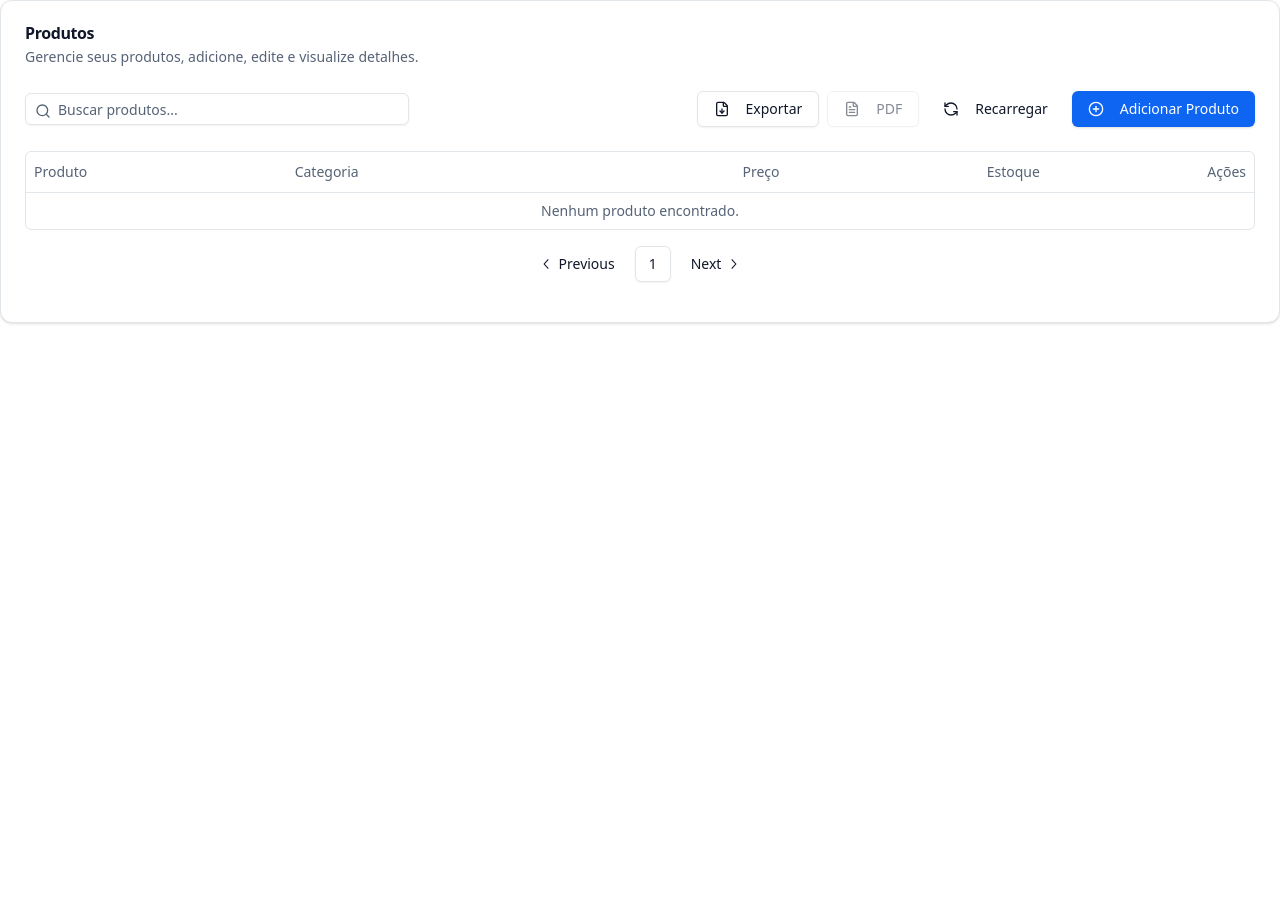
Test: Products page form › exibe mensagens de validação ao tentar salvar vazio
Click the button "Adicionar Produto" at [1163, 109], box [1072, 91, 1255, 127]
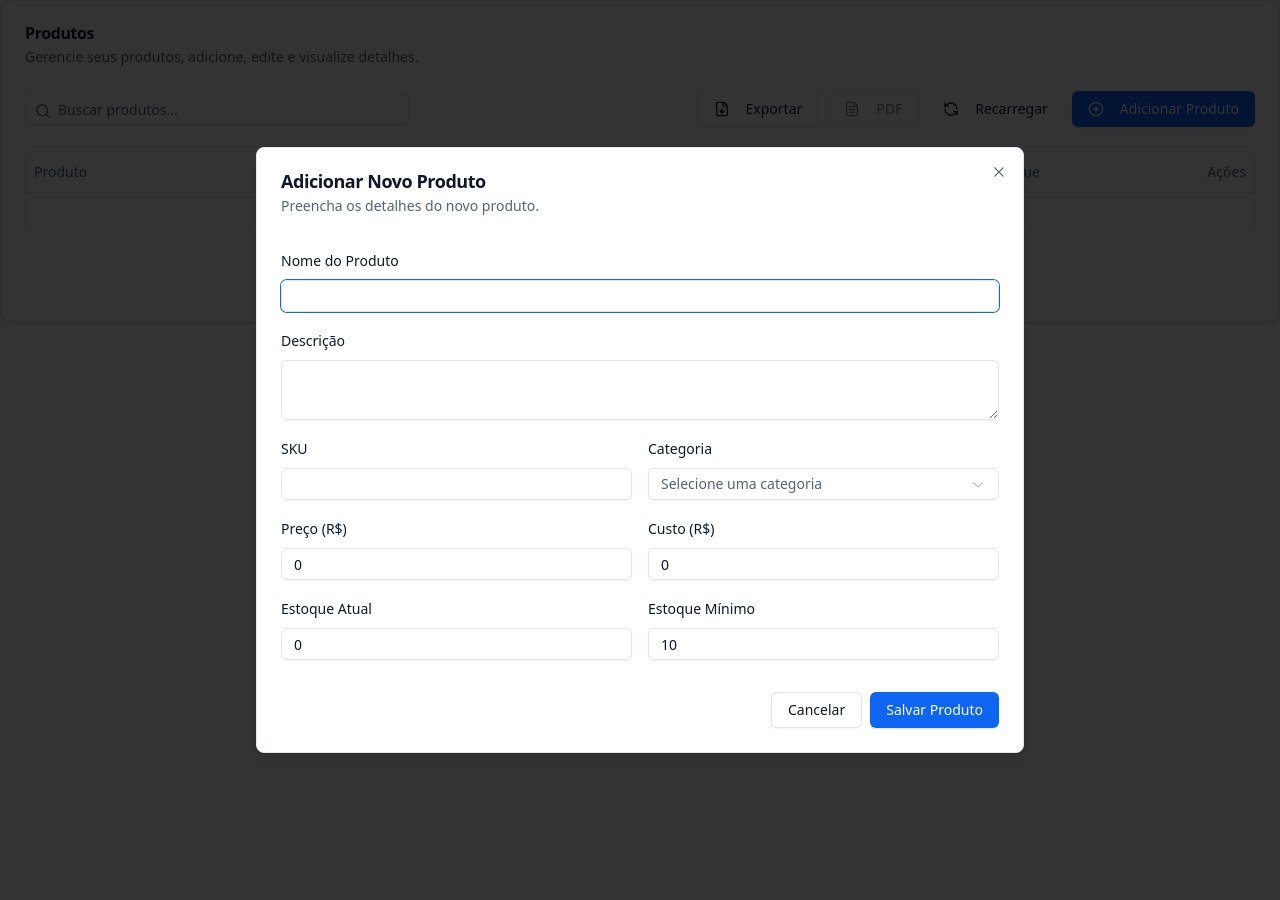
Click the button "Salvar Produto" at [935, 710], box [870, 692, 999, 728]
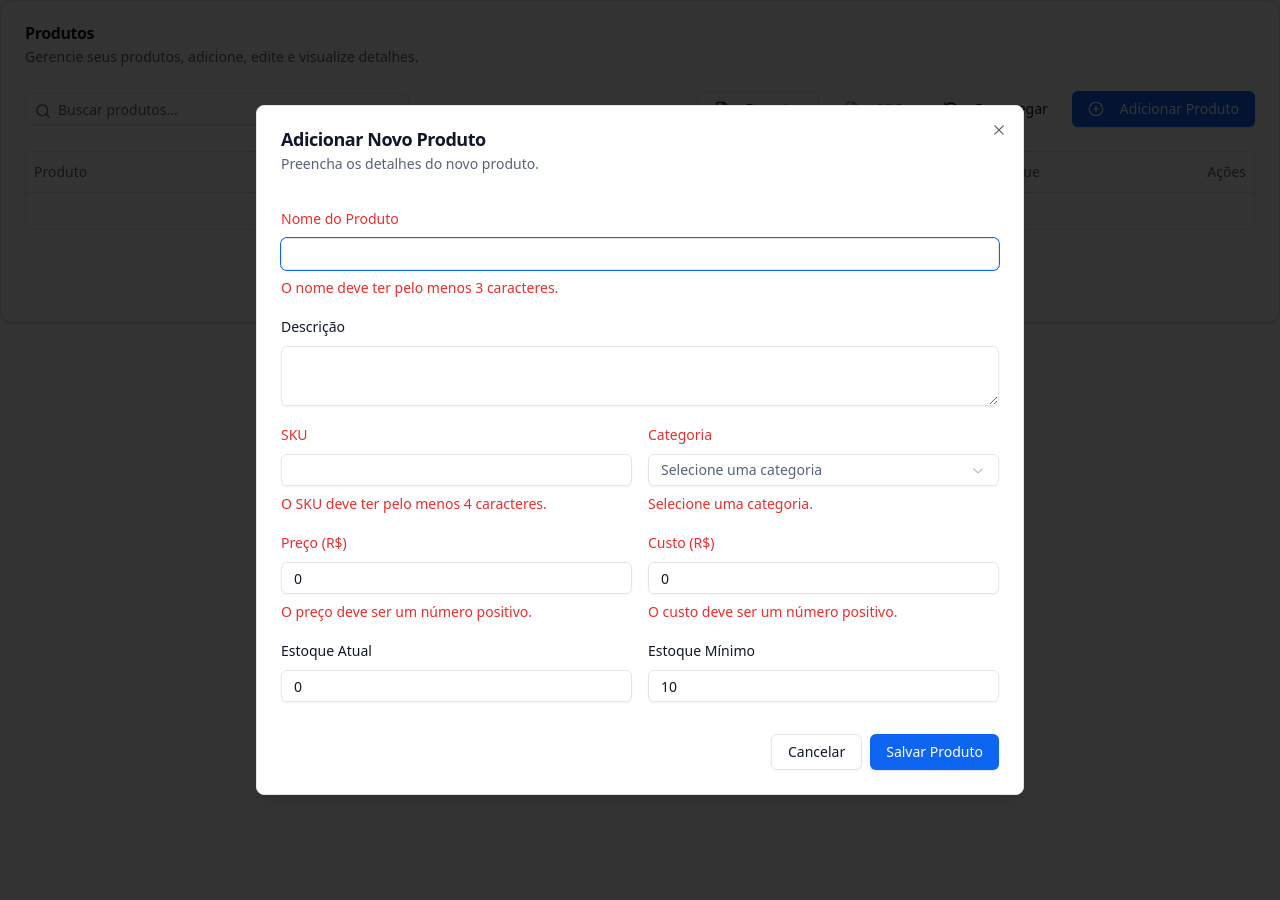
Expected: the text "O nome deve ter pelo menos 3 caracteres." is shown, [281, 278, 558, 297]
